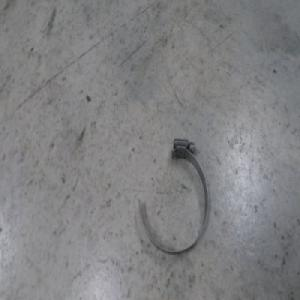AdjustableClamp: (137, 135, 207, 254)
